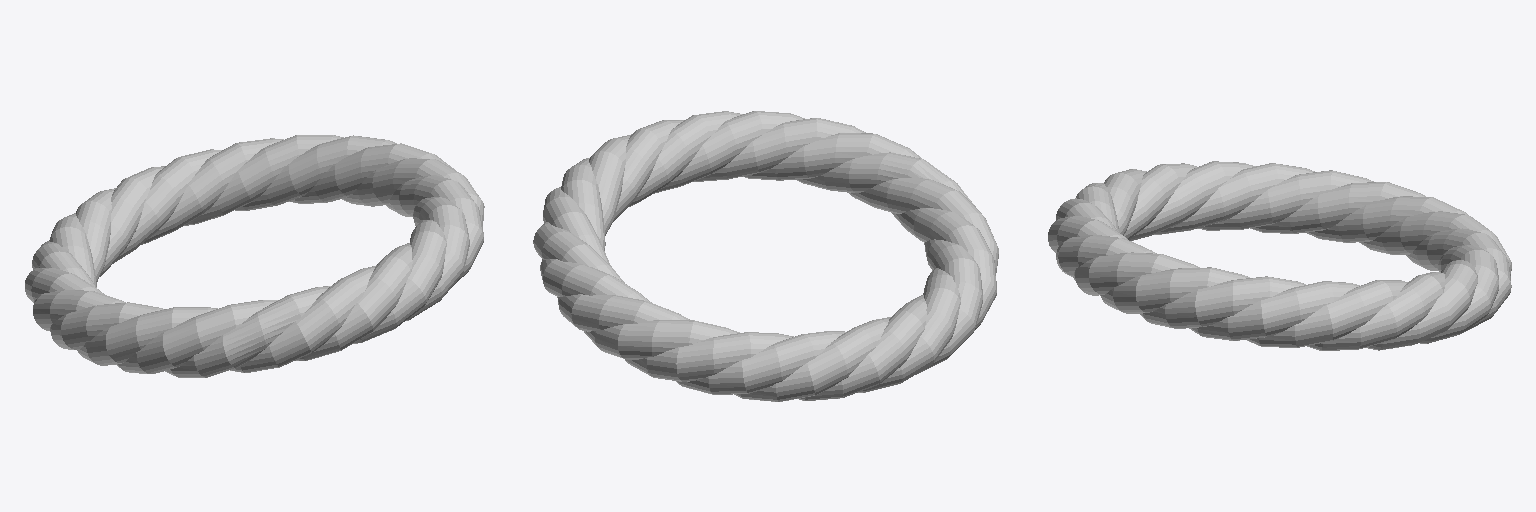
Rendered from CR_ring_toss_rope.obj.
3 views of the same model, side by side, from view 1: azimuth 30°, elevation 25°; view 2: azimuth 150°, elevation 25°; view 3: azimuth 270°, elevation 25° (orthographic).
Visible parts, largest first — view 1: 18851_Ring_Toss_Game_V1.001; view 2: 18851_Ring_Toss_Game_V1.001; view 3: 18851_Ring_Toss_Game_V1.001.
Part boxes in pixels (x1,y1,x2,y2): 18851_Ring_Toss_Game_V1.001: (25, 135, 484, 377); 18851_Ring_Toss_Game_V1.001: (533, 111, 998, 401); 18851_Ring_Toss_Game_V1.001: (1048, 161, 1511, 350).
Bounding box in the file's own units: 13.51 × 4.1 × 13.53.